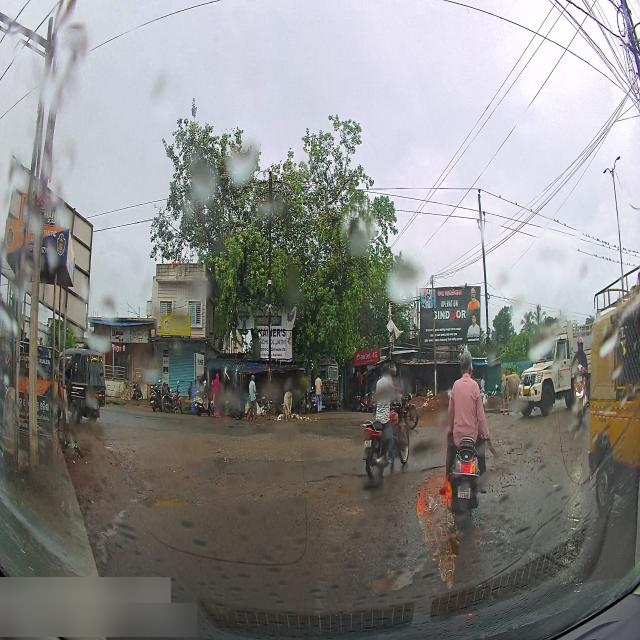pothole: (362, 566, 416, 604), (145, 486, 200, 510)
